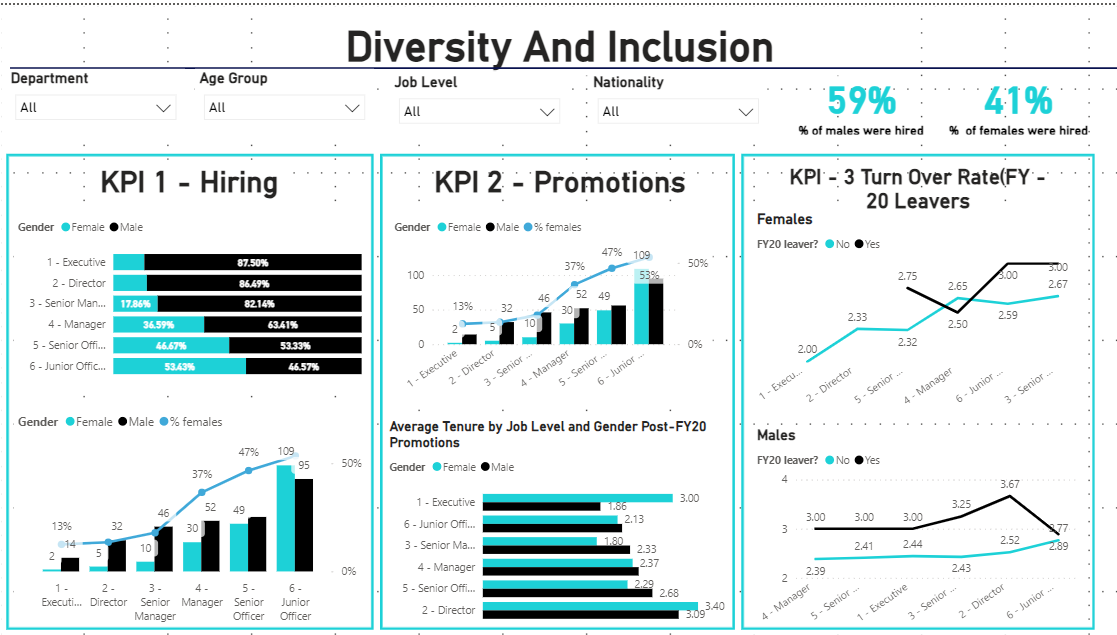

Layout of this report page (visuals, bound fields, positions):
{"tool":"powerbi","page":{"name":"Page 2","canvas":[1280,720],"ordinal":1},"visuals":[{"type":"textbox","box":[311.4,14.8,657.2,66.5],"z":0},{"type":"shape","box":[11.4,0,1268.6,144.3],"z":1000},{"type":"slicer","title":"Department","fields":{"Values":["Pharma Group AG.Last Department in FY20"]},"box":[7.1,72.9,204.3,78.6],"z":2000},{"type":"slicer","title":"Job Level","fields":{"Values":["Pharma Group AG.Job Level after FY20 promotions"]},"box":[445.7,77.1,204.3,78.6],"z":3000},{"type":"slicer","title":"Age Group","fields":{"Values":["Pharma Group AG.Age group"]},"box":[222.9,72.9,204.3,78.6],"z":4000},{"type":"slicer","title":"Nationality","fields":{"Values":["Pharma Group AG.Nationality 1"]},"box":[672.9,77.1,204.3,78.6],"z":5000},{"type":"hundredPercentStackedBarChart","fields":{"Category":["Pharma Group AG.Job Level after FY20 promotions"],"Y":["CountNonNull(Pharma Group AG.Employee ID)"],"Series":["Pharma Group AG.Gender"]},"box":[15.7,234.3,402.9,202.9],"z":6000},{"type":"lineClusteredColumnComboChart","fields":{"Category":["Pharma Group AG.Job Level after FY20 promotions"],"Y":["CountNonNull(Pharma Group AG.Employee ID)"],"Series":["Pharma Group AG.Gender"],"Y2":["Pharma Group AG.% females"]},"box":[15.7,455.7,402.9,258.6],"z":7000},{"type":"card","fields":{"Values":["Pharma Group AG.% male"]},"box":[891.4,72.9,185.7,80],"z":8000},{"type":"card","fields":{"Values":["Pharma Group AG.% females"]},"box":[1077.1,72.9,174.3,80],"z":9000},{"type":"lineClusteredColumnComboChart","fields":{"Category":["Pharma Group AG.Job Level after FY20 promotions"],"Series":["Pharma Group AG.Gender"],"Y2":["Pharma Group AG.% females"],"Y":["CountNonNull(Pharma Group AG.Promotion in FY20?)"]},"box":[445.7,234.3,368.6,218.6],"z":10000},{"type":"clusteredBarChart","title":"Average Tenure by Job Level and Gender Post-FY20 Promotions","fields":{"Series":["Pharma Group AG.Gender"],"Category":["Pharma Group AG.Job Level after FY20 promotions"],"Y":["Avg(Pharma Group AG.Time in Job Level @01.07.2020)"]},"box":[440,472.9,394.3,244.3],"z":11000},{"type":"lineChart","title":"Females","fields":{"Category":["Pharma Group AG.Job Level after FY20 promotions"],"Series":["Pharma Group AG.FY20 leaver?"],"Y":["Avg(Pharma Group AG.FY19 Performance Rating)"]},"box":[860,234.3,377.1,238.6],"z":12000},{"type":"lineChart","title":"Males","fields":{"Category":["Pharma Group AG.Job Level after FY20 promotions"],"Series":["Pharma Group AG.FY20 leaver?"],"Y":["Avg(Pharma Group AG.FY19 Performance Rating)"]},"box":[860,481.4,377.1,238.6],"z":13000},{"type":"shape","box":[434.3,170,405.7,544.3],"z":13001},{"type":"shape","box":[847.1,170,404.3,544.3],"z":13002},{"type":"shape","box":[7.1,170,420,544.3],"z":13003},{"type":"textbox","box":[98.6,177.1,235.7,57.1],"z":13004},{"type":"textbox","box":[490,177.1,300,64.3],"z":13005},{"type":"textbox","box":[891.4,177.1,315.7,64.3],"z":13006}]}

Visuals, with their boxes in screenshot pixels (x1, y1, x2, y2), scaled from the page's 1280x720 canvas onto the 1117x635 screenshot:
textbox: x1=272, y1=13, x2=845, y2=72
shape: x1=10, y1=0, x2=1116, y2=127
"Department" slicer: x1=6, y1=64, x2=184, y2=134
"Job Level" slicer: x1=389, y1=68, x2=567, y2=137
"Age Group" slicer: x1=195, y1=64, x2=373, y2=134
"Nationality" slicer: x1=587, y1=68, x2=765, y2=137
hundredPercentStackedBarChart - Pharma Group AG.Job Level after FY20 promotions x CountNonNull(Pharma Group AG.Employee ID): x1=14, y1=207, x2=365, y2=386
lineClusteredColumnComboChart - Pharma Group AG.Job Level after FY20 promotions x CountNonNull(Pharma Group AG.Employee ID): x1=14, y1=402, x2=365, y2=630
card - Pharma Group AG.% male: x1=778, y1=64, x2=940, y2=135
card - Pharma Group AG.% females: x1=940, y1=64, x2=1092, y2=135
lineClusteredColumnComboChart - Pharma Group AG.Job Level after FY20 promotions x Pharma Group AG.Gender: x1=389, y1=207, x2=711, y2=399
"Average Tenure by Job Level and Gender Post-FY20 Promotions" clusteredBarChart: x1=384, y1=417, x2=728, y2=633
"Females" lineChart: x1=750, y1=207, x2=1080, y2=417
"Males" lineChart: x1=750, y1=425, x2=1080, y2=634
shape: x1=379, y1=150, x2=733, y2=630
shape: x1=739, y1=150, x2=1092, y2=630
shape: x1=6, y1=150, x2=373, y2=630
textbox: x1=86, y1=156, x2=292, y2=207
textbox: x1=428, y1=156, x2=689, y2=213
textbox: x1=778, y1=156, x2=1053, y2=213
